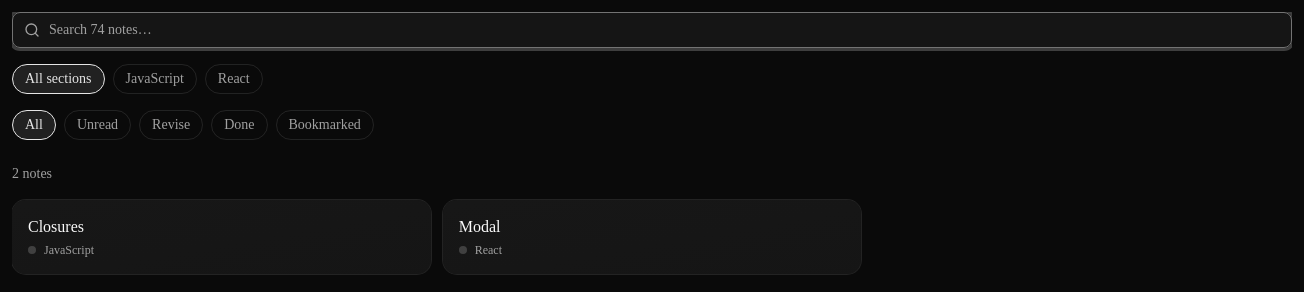
Test: NotesBrowser › filters by search query
In the field with placeholder "Search 74 notes…": point(652, 30) [12, 12, 1292, 48], type "closure"
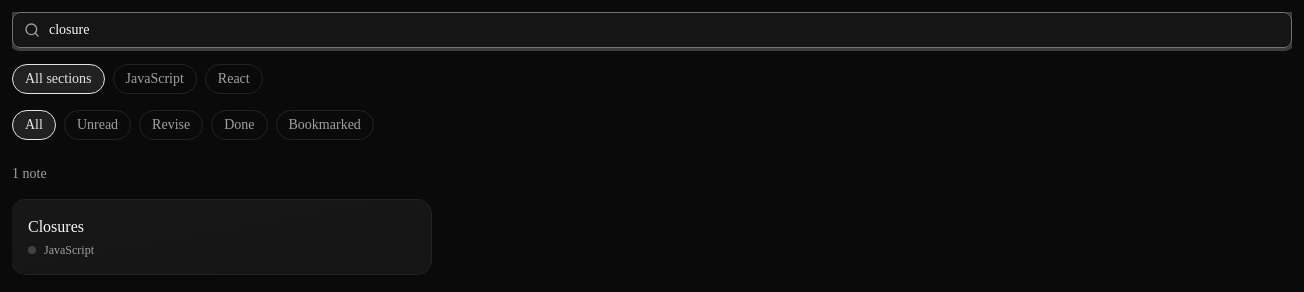
Expected: the text "Closures" is shown, [28, 216, 84, 238]
Result: the link "Modal" is gone
